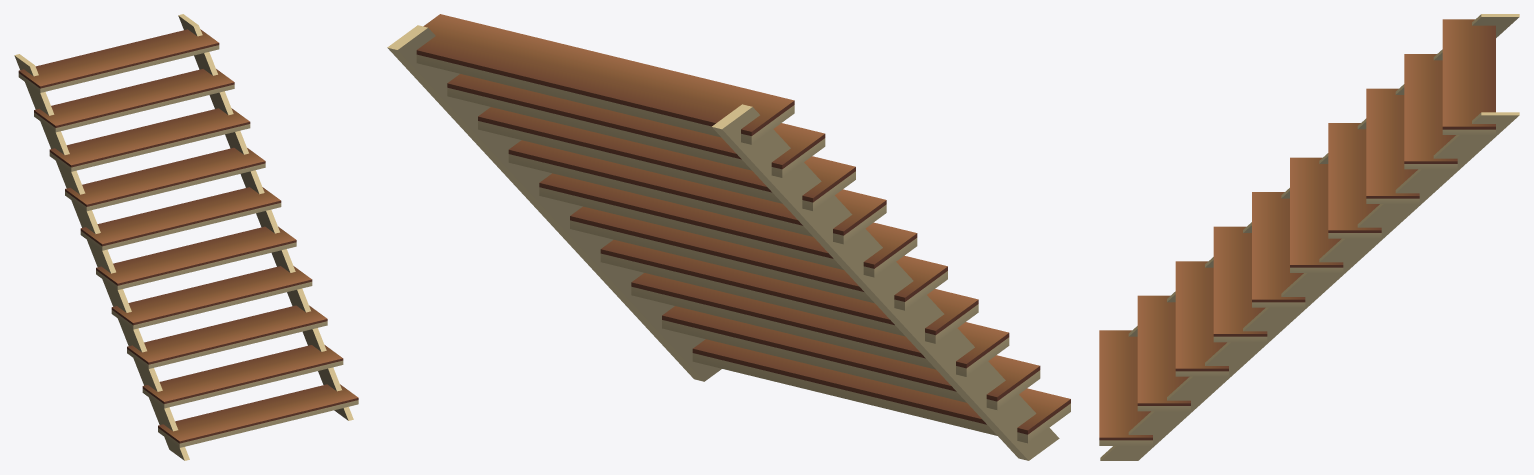
The model's file is TSP_House_Stairs_01C.fbx.
The picture shows the model from 3 angles, left to right: view 1: azimuth 30°, elevation 25°; view 2: azimuth 150°, elevation 25°; view 3: azimuth 270°, elevation 25°; orthographic projection. The views are drawn at different scales.
Visible parts, largest first — view 1: TSP_House_Stairs_01C; view 2: TSP_House_Stairs_01C; view 3: TSP_House_Stairs_01C.
Boxes of the visible parts, x1,y1,x2,y2 form: TSP_House_Stairs_01C: (14,14,358,460); TSP_House_Stairs_01C: (387,14,1070,460); TSP_House_Stairs_01C: (1099,14,1519,460).
Size of the model in its own units: 2 by 3 by 3.31.
